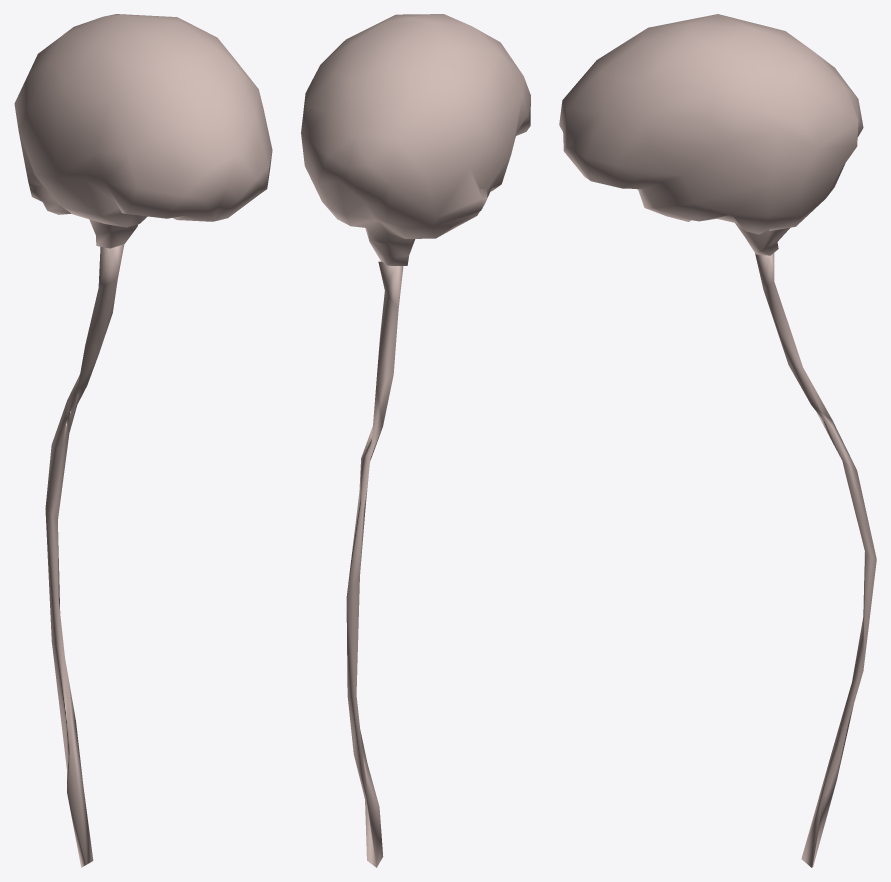
File: icrp_adult_female.nervous.LOD3.glb
3 views of the same model, side by side, from view 1: azimuth 30°, elevation 25°; view 2: azimuth 150°, elevation 25°; view 3: azimuth 270°, elevation 25° (orthographic). The views are drawn at different scales.
Visible parts, largest first — view 1: ICRP.ADULT.FEMALE.NERVOUS.BRAIN, ICRP.ADULT.FEMALE.NERVOUS.SPINAL_CORD; view 2: ICRP.ADULT.FEMALE.NERVOUS.BRAIN, ICRP.ADULT.FEMALE.NERVOUS.SPINAL_CORD; view 3: ICRP.ADULT.FEMALE.NERVOUS.BRAIN, ICRP.ADULT.FEMALE.NERVOUS.SPINAL_CORD.
Boxes of the visible parts, x1,y1,x2,y2 form: ICRP.ADULT.FEMALE.NERVOUS.BRAIN: (14,14,272,248); ICRP.ADULT.FEMALE.NERVOUS.SPINAL_CORD: (45,244,124,867); ICRP.ADULT.FEMALE.NERVOUS.BRAIN: (301,14,530,265); ICRP.ADULT.FEMALE.NERVOUS.SPINAL_CORD: (346,261,403,867); ICRP.ADULT.FEMALE.NERVOUS.BRAIN: (559,14,863,255); ICRP.ADULT.FEMALE.NERVOUS.SPINAL_CORD: (755,253,876,867).
Size of the model in its own units: 0.1251 by 0.5366 by 0.1827.
